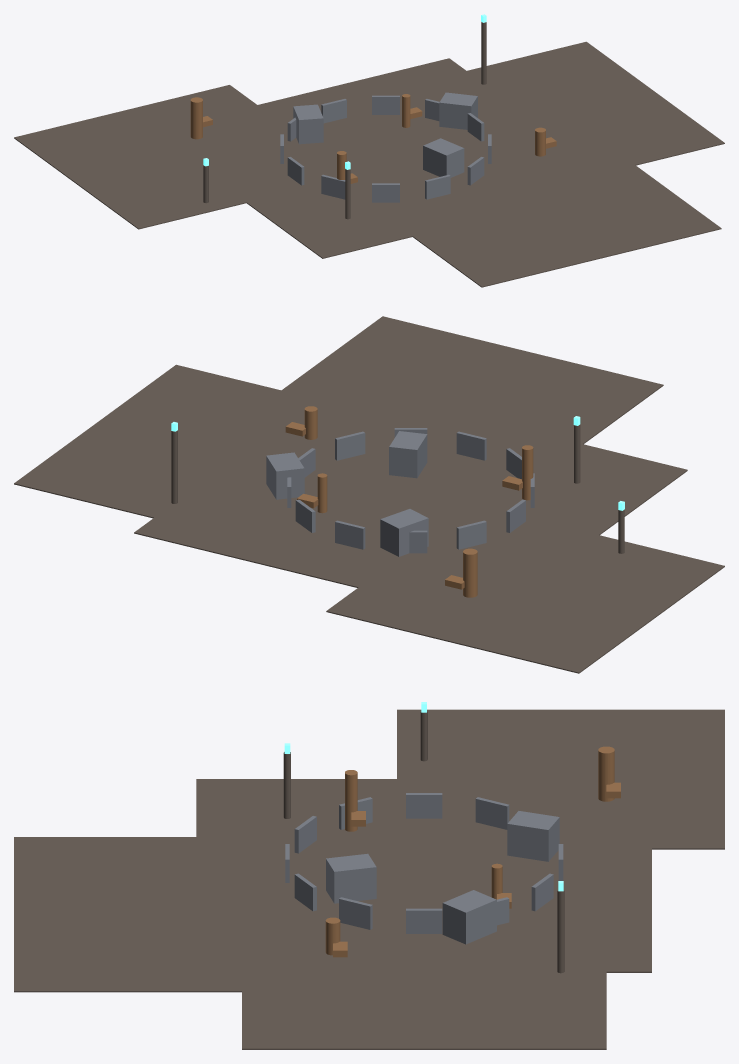
File: environment.glb
3 views of the same model, one above another, from view 1: azimuth 30°, elevation 25°; view 2: azimuth 150°, elevation 25°; view 3: azimuth 270°, elevation 25° (orthographic). The views are drawn at different scales.
Parts seen in each view (by area): view 1: Ground_0, Ground_3, Ground_2, Ground_1, Container_0, Container_2, Container_1, ArenaWall_2, ArenaWall_8, Pillar_3, ArenaWall_9, ArenaWall_3 (+1 smaller); view 2: Ground_0, Ground_2, Ground_1, Ground_3, Container_0, Container_1, Container_2, ArenaWall_3, ArenaWall_5, ArenaWall_11, ArenaWall_9, Pillar_3 (+1 smaller); view 3: Ground_0, Ground_1, Ground_3, Ground_2, Container_2, Container_1, Container_0, ArenaWall_6, ArenaWall_0, ArenaWall_5, ArenaWall_11, Pillar_3 (+5 smaller).
Part boxes in pixels (left/top/right/bottom): Ground_0: left=150, top=58, right=621, bottom=258; Ground_3: left=378, top=152, right=721, bottom=287; Ground_2: left=14, top=85, right=336, bottom=229; Ground_1: left=413, top=41, right=724, bottom=186; Container_0: left=423, top=138, right=464, bottom=177; Container_2: left=439, top=92, right=477, bottom=129; Container_1: left=293, top=104, right=323, bottom=144; ArenaWall_2: left=372, top=95, right=399, bottom=114; ArenaWall_8: left=372, top=183, right=399, bottom=202; Pillar_3: left=190, top=97, right=202, bottom=139; ArenaWall_9: left=425, top=174, right=450, bottom=199; ArenaWall_3: left=321, top=99, right=346, bottom=123; Ground_0: left=134, top=384, right=687, bottom=616; Ground_2: left=326, top=504, right=724, bottom=673; Ground_1: left=14, top=364, right=386, bottom=534; Ground_3: left=264, top=316, right=663, bottom=448; Container_0: left=389, top=431, right=427, bottom=478; Container_1: left=380, top=509, right=428, bottom=556; Container_2: left=266, top=452, right=304, bottom=499; ArenaWall_3: left=335, top=520, right=365, bottom=549; ArenaWall_5: left=456, top=520, right=486, bottom=549; ArenaWall_11: left=335, top=431, right=365, bottom=460; ArenaWall_9: left=456, top=431, right=486, bottom=460; Pillar_3: left=463, top=548, right=477, bottom=597; Ground_0: left=196, top=779, right=651, bottom=972; Ground_1: left=242, top=933, right=606, bottom=1049; Ground_3: left=14, top=837, right=287, bottom=992; Ground_2: left=397, top=709, right=724, bottom=849; Container_2: left=442, top=890, right=496, bottom=944; Container_1: left=507, top=811, right=559, bottom=861; Container_0: left=326, top=853, right=376, bottom=903; ArenaWall_6: left=406, top=793, right=442, bottom=818; ArenaWall_0: left=406, top=908, right=442, bottom=933; ArenaWall_5: left=475, top=797, right=509, bottom=829; ArenaWall_11: left=339, top=897, right=372, bottom=929; Pillar_3: left=598, top=746, right=614, bottom=801.
Bounding box in the file's own units: 88 × 11 × 78.
